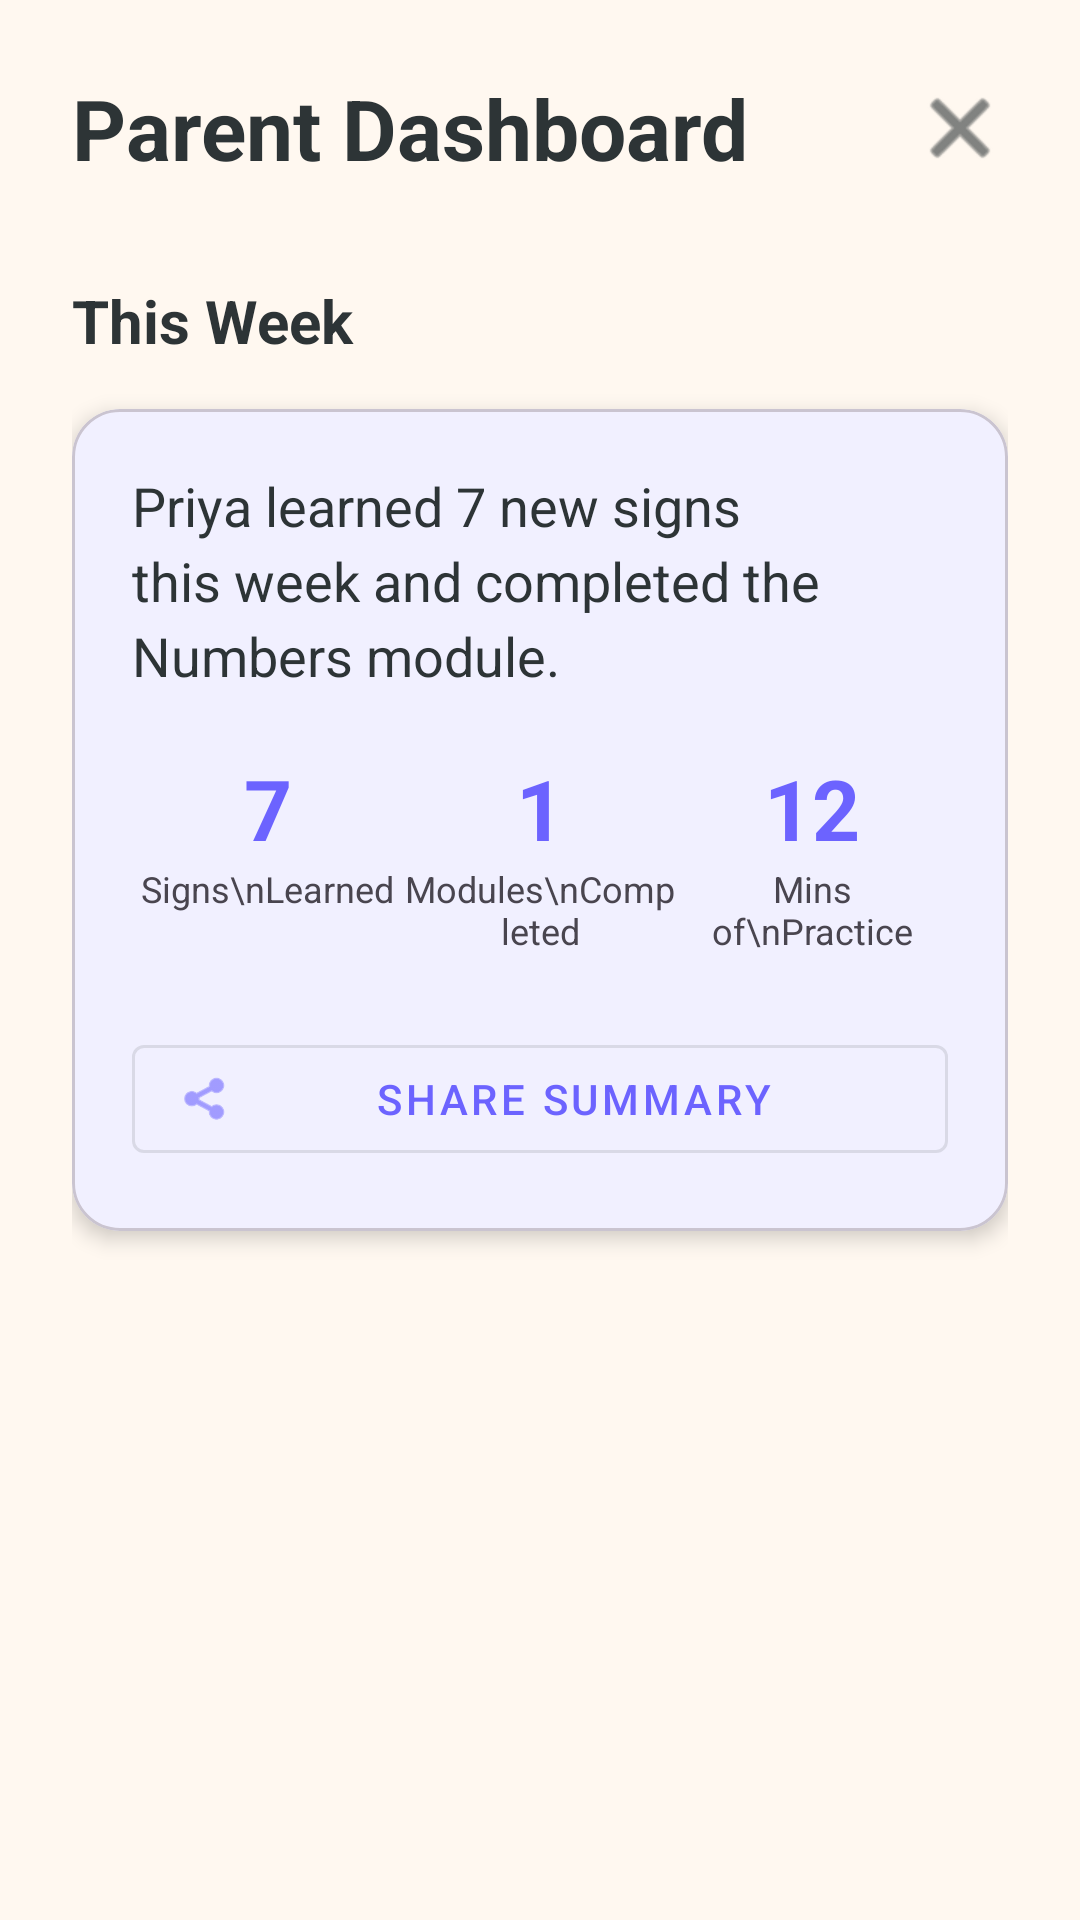

Screen size 1080 x 1920. Icon name, then its center in pixels as (x,y):
close clear cancel: (960,128)
